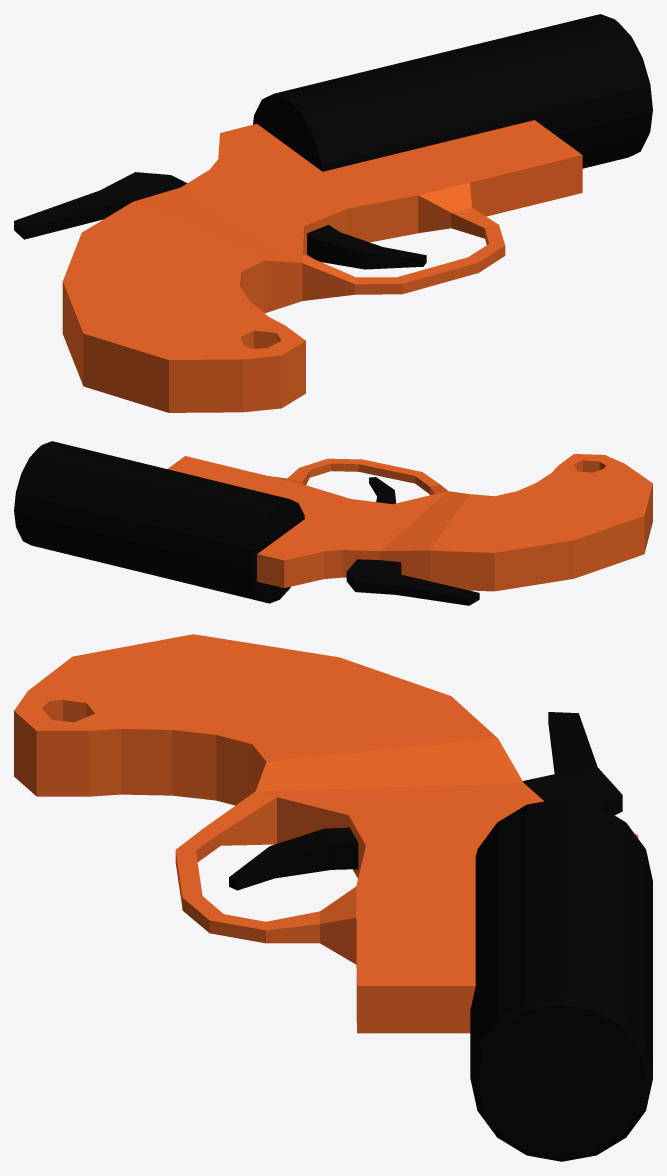
File: FlareGun.fbx
3 renders of one model, top to bottom at view 1: azimuth 30°, elevation 25°; view 2: azimuth 150°, elevation 25°; view 3: azimuth 270°, elevation 25°, orthographic. The views are drawn at different scales.
Visible parts, largest first — view 1: FlareGun; view 2: FlareGun; view 3: FlareGun.
Boxes of the visible parts, box(x1,y1,x2,y2) form: FlareGun: box(14, 14, 652, 412); FlareGun: box(14, 441, 652, 605); FlareGun: box(14, 634, 652, 1161).
Bounding box in the file's own units: 33.12 × 6.16 × 21.57.
